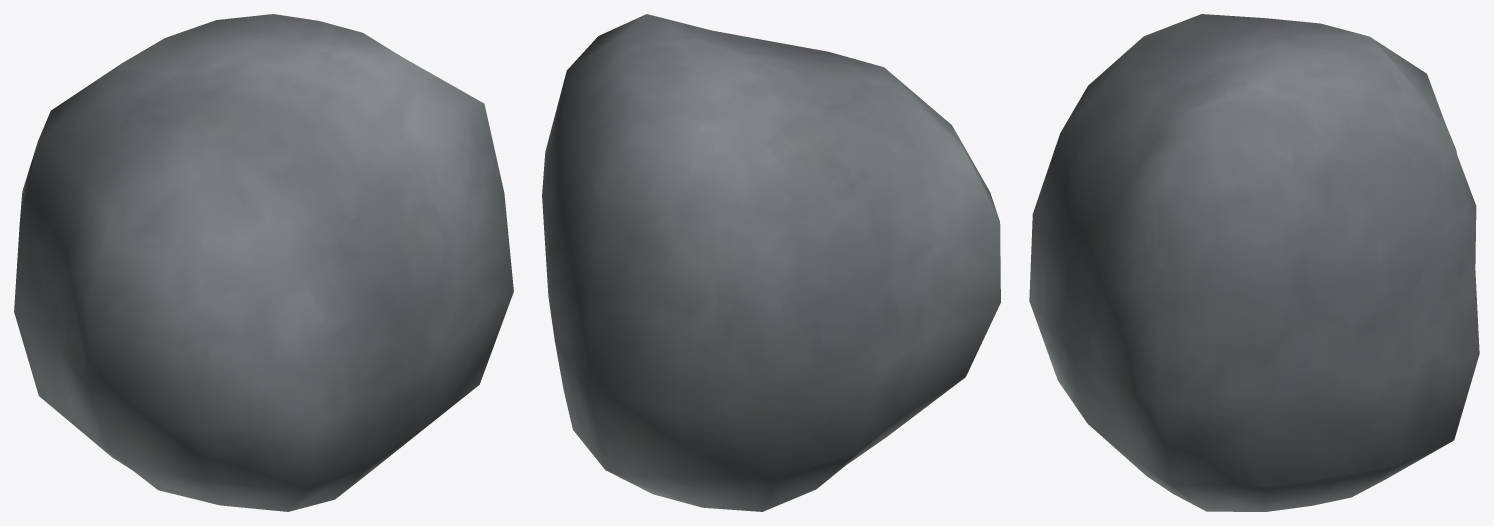
File: pebble_03.glb
The picture shows the model from 3 angles, left to right: view 1: azimuth 30°, elevation 25°; view 2: azimuth 150°, elevation 25°; view 3: azimuth 270°, elevation 25°; orthographic projection. The views are drawn at different scales.
Visible parts, largest first — view 1: pebble_03; view 2: pebble_03; view 3: pebble_03.
Part boxes in pixels (bbox=[...]): pebble_03: bbox=[14, 14, 513, 511]; pebble_03: bbox=[542, 14, 1000, 511]; pebble_03: bbox=[1029, 14, 1479, 511].
Bounding box in the file's own units: 2.12 × 2 × 1.9.
1 material, 1 textured.
